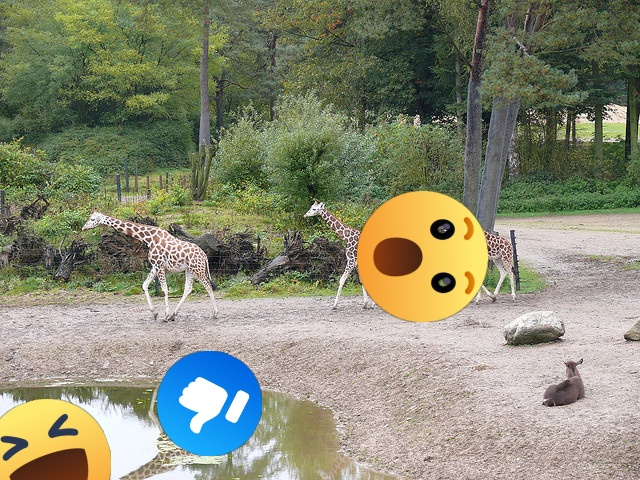haha: (0, 399, 111, 480)
like: (157, 351, 262, 456)
wow: (357, 191, 488, 322)
